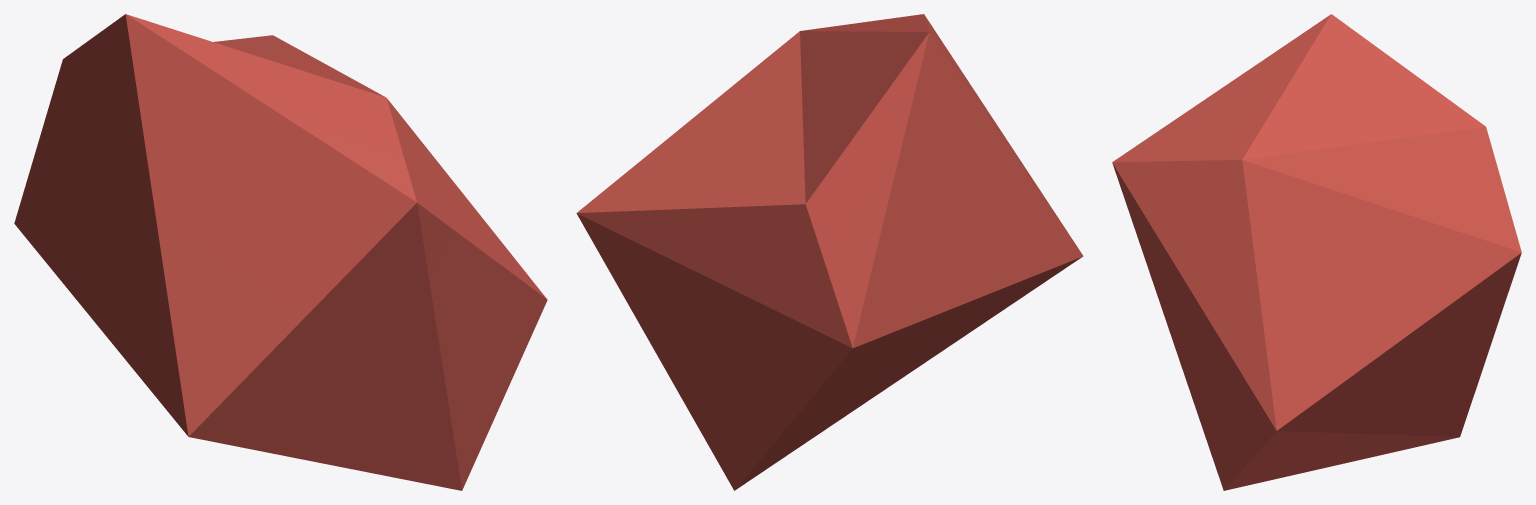
Rendered from littleredrock1.fbx.
The picture shows the model from 3 angles, left to right: view 1: azimuth 30°, elevation 25°; view 2: azimuth 150°, elevation 25°; view 3: azimuth 270°, elevation 25°; orthographic projection. The views are drawn at different scales.
Visible parts, largest first — view 1: Roundcube.009; view 2: Roundcube.009; view 3: Roundcube.009.
Part boxes in pixels (x1,y1,x2,y2): Roundcube.009: [14, 14, 547, 490]; Roundcube.009: [576, 14, 1083, 490]; Roundcube.009: [1112, 14, 1521, 490].
Bounding box in the file's own units: 43.18 × 45.88 × 45.18.
